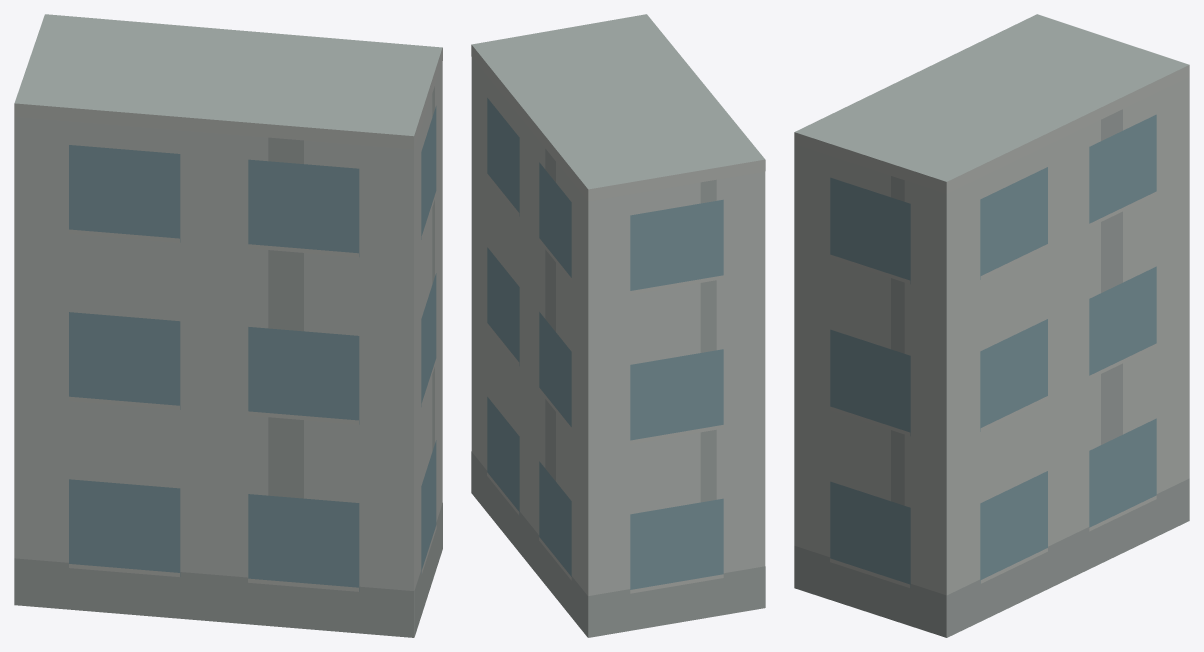
File: survey-upis-32908115.glb
3 renders of one model, left to right at view 1: azimuth 30°, elevation 25°; view 2: azimuth 150°, elevation 25°; view 3: azimuth 270°, elevation 25°, orthographic. The views are drawn at different scales.
Visible parts, largest first — view 1: survey-upis-32908115.tmp; view 2: survey-upis-32908115.tmp; view 3: survey-upis-32908115.tmp.
Boxes of the visible parts, <box> form: survey-upis-32908115.tmp: <box>14,14,442,637</box>; survey-upis-32908115.tmp: <box>471,14,765,637</box>; survey-upis-32908115.tmp: <box>794,14,1189,637</box>.
Bounding box in the file's own units: 7.23 × 9.15 × 7.2.
